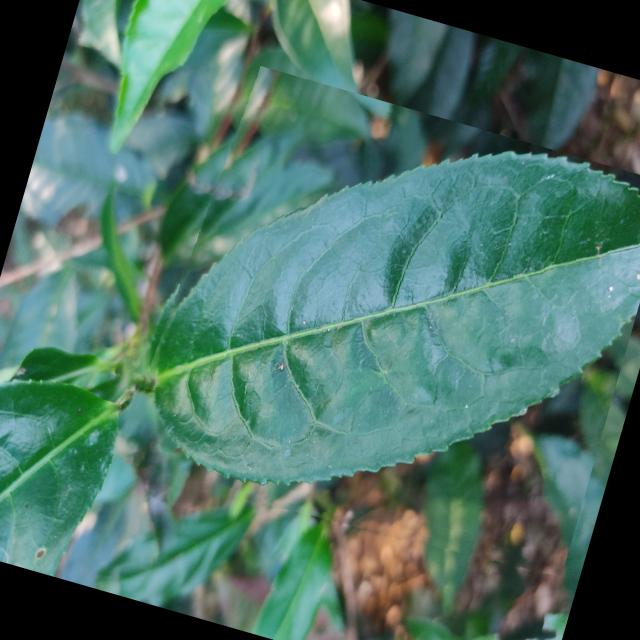Category D(7+ days, Not for Tea): (112, 56, 640, 593)
